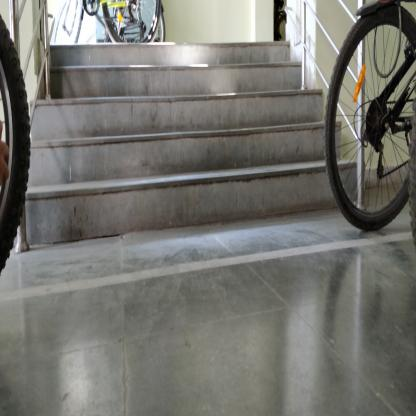stairs: (54, 41, 289, 252)
